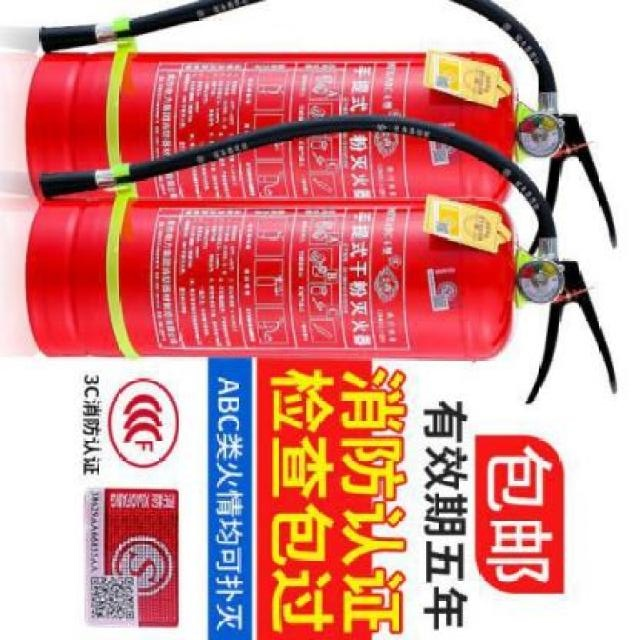fire extinguisher: (24, 112, 619, 405), (25, 0, 618, 257)
